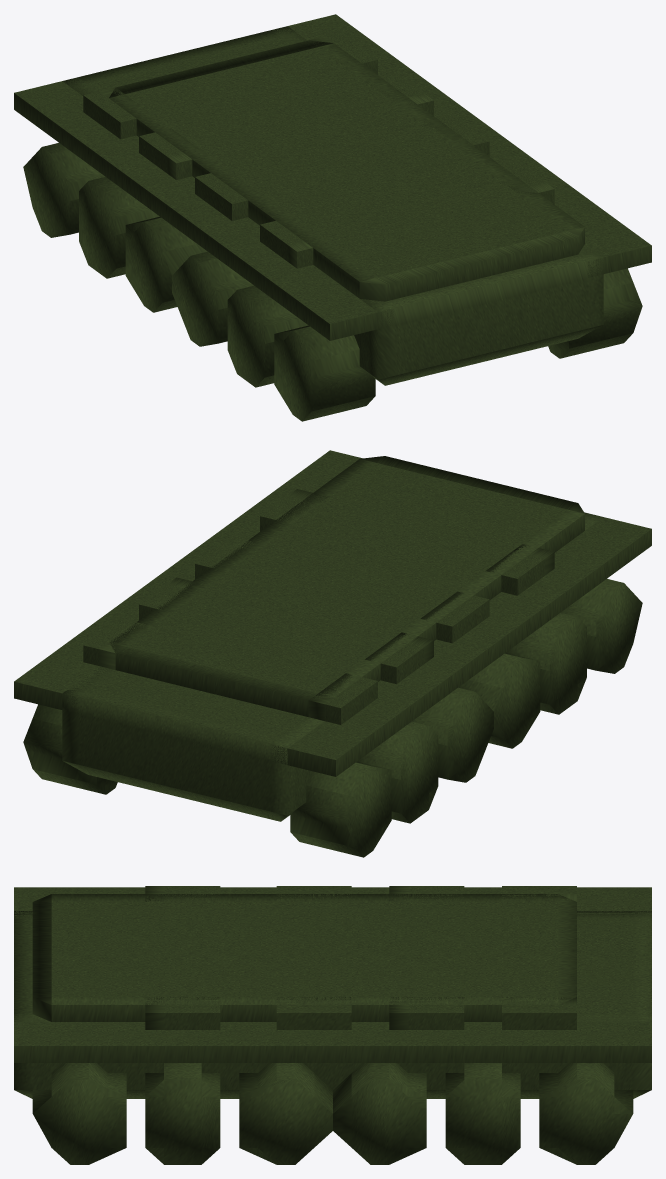
3 renders of one model, top to bottom at view 1: azimuth 30°, elevation 25°; view 2: azimuth 150°, elevation 25°; view 3: azimuth 270°, elevation 25°, orthographic.
Size of the model in its own units: 3.4 by 1.36 by 5.78.
1 material, 1 textured.
